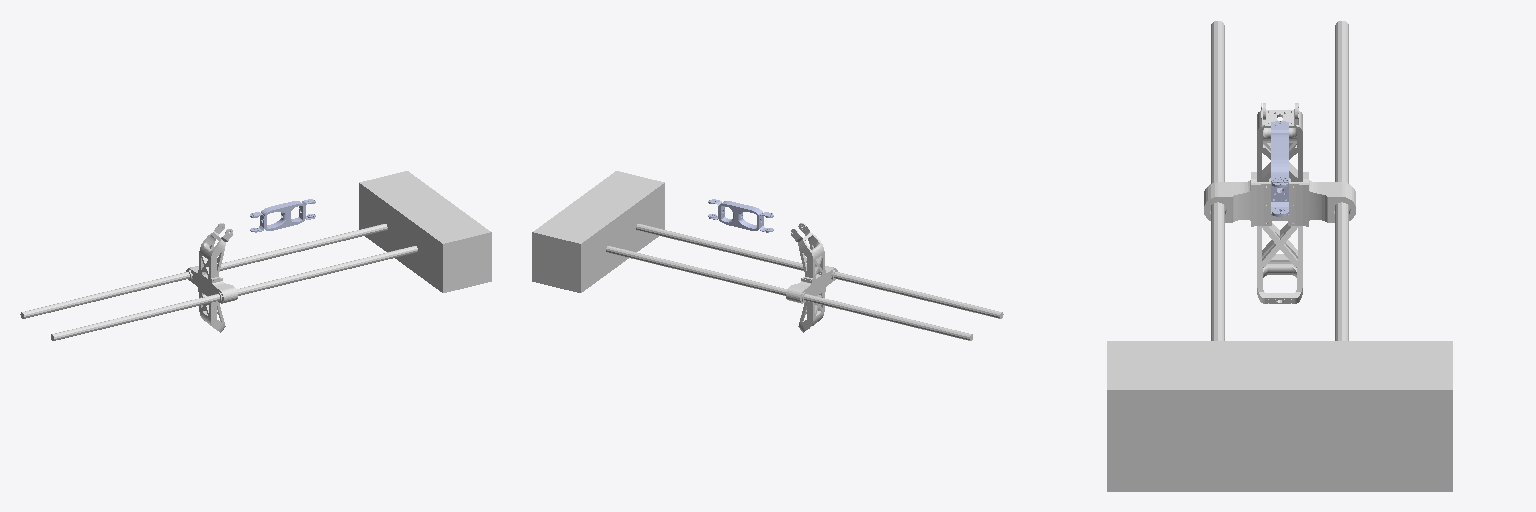
robot.urdf — Pata_Robo_Parcial_URDF_V1.2:
<?xml version="1.0" encoding="utf-8"?>
<!-- This URDF was automatically created by SolidWorks to URDF Exporter! Originally created by Stephen Brawner (brawner@gmail.com) 
     Commit Version: 1.6.0-4-g7f85cfe  Build Version: 1.6.7995.38578
     For more information, please see http://wiki.ros.org/sw_urdf_exporter -->
<robot
  name="Pata_Robo_Parcial_URDF_V1.2">
  <link
    name="Base_link">
    <inertial>
      <origin
        xyz="0.81995 3.347E-07 9.745E-05"
        rpy="0 0 0" />
      <mass
        value="26.056" />
      <inertia
        ixx="0.7959"
        ixy="1.6789E-14"
        ixz="-1.9851E-07"
        iyy="1.47"
        iyz="1.3268E-08"
        izz="2.1151" />
    </inertial>
    <visual>
      <origin
        xyz="0 0 0"
        rpy="0 0 0" />
      <geometry>
        <mesh
          filename="package://Pata_Robo_Parcial_URDF_V1.2/meshes/Base_link.STL" />
      </geometry>
      <material
        name="">
        <color
          rgba="0.89412 0.89412 0.89412 1" />
      </material>
    </visual>
    <collision>
      <origin
        xyz="0 0 0"
        rpy="0 0 0" />
      <geometry>
        <mesh
          filename="package://Pata_Robo_Parcial_URDF_V1.2/meshes/Base_link.STL" />
      </geometry>
    </collision>
  </link>
  <link
    name="Hip_Link">
    <inertial>
      <origin
        xyz="0.059729 0.0001899 -0.00021766"
        rpy="0 0 0" />
      <mass
        value="0.19411" />
      <inertia
        ixx="5.2459E-05"
        ixy="-1.017E-07"
        ixz="-1.017E-07"
        iyy="8.9433E-05"
        iyz="-6.4685E-10"
        izz="8.9433E-05" />
    </inertial>
    <visual>
      <origin
        xyz="0 0 0"
        rpy="0 0 0" />
      <geometry>
        <mesh
          filename="package://Pata_Robo_Parcial_URDF_V1.2/meshes/Hip_Link.STL" />
      </geometry>
      <material
        name="">
        <color
          rgba="0.89412 0.89412 0.89412 1" />
      </material>
    </visual>
    <collision>
      <origin
        xyz="0 0 0"
        rpy="0 0 0" />
      <geometry>
        <mesh
          filename="package://Pata_Robo_Parcial_URDF_V1.2/meshes/Hip_Link.STL" />
      </geometry>
    </collision>
  </link>
  <joint
    name="Hip_Joint"
    type="revolute">
    <origin
      xyz="0.083749 0 0.2004"
      rpy="1.5708 0 0" />
    <parent
      link="Base_link" />
    <child
      link="Hip_Link" />
    <axis
      xyz="0 0 1" />
    <limit
      lower="-1.5708"
      upper="1.5708"
      effort="100"
      velocity="100" />
  </joint>
  <link
    name="Knee_Link">
    <inertial>
      <origin
        xyz="0.12138 0.00022499 0.00023022"
        rpy="0 0 0" />
      <mass
        value="0.21755" />
      <inertia
        ixx="0.00017367"
        ixy="7.9209E-10"
        ixz="-8.4058E-09"
        iyy="0.00053617"
        iyz="-3.2733E-09"
        izz="0.00039504" />
    </inertial>
    <visual>
      <origin
        xyz="0 0 0"
        rpy="0 0 0" />
      <geometry>
        <mesh
          filename="package://Pata_Robo_Parcial_URDF_V1.2/meshes/Knee_Link.STL" />
      </geometry>
      <material
        name="">
        <color
          rgba="0.79216 0.81961 0.92941 1" />
      </material>
    </visual>
    <collision>
      <origin
        xyz="0 0 0"
        rpy="0 0 0" />
      <geometry>
        <mesh
          filename="package://Pata_Robo_Parcial_URDF_V1.2/meshes/Knee_Link.STL" />
      </geometry>
    </collision>
  </link>
  <joint
    name="Knee_Joint"
    type="revolute">
    <origin
      xyz="0.11945 0 0"
      rpy="-1.5708 0 0" />
    <parent
      link="Hip_Link" />
    <child
      link="Knee_Link" />
    <axis
      xyz="0 0 1" />
    <limit
      lower="-1.5708"
      upper="1.5708"
      effort="100"
      velocity="100" />
  </joint>
  <link
    name="Ankle_Link">
    <inertial>
      <origin
        xyz="0.14628 -0.012034 -0.00027145"
        rpy="0 0 0" />
      <mass
        value="0.38215" />
      <inertia
        ixx="0.00046168"
        ixy="3.9328E-05"
        ixz="-1.1677E-07"
        iyy="0.00052581"
        iyz="1.7837E-08"
        izz="0.00059799" />
    </inertial>
    <visual>
      <origin
        xyz="0 0 0"
        rpy="0 0 0" />
      <geometry>
        <mesh
          filename="package://Pata_Robo_Parcial_URDF_V1.2/meshes/Ankle_Link.STL" />
      </geometry>
      <material
        name="">
        <color
          rgba="0.89412 0.89412 0.89412 1" />
      </material>
    </visual>
    <collision>
      <origin
        xyz="0 0 0"
        rpy="0 0 0" />
      <geometry>
        <mesh
          filename="package://Pata_Robo_Parcial_URDF_V1.2/meshes/Ankle_Link.STL" />
      </geometry>
    </collision>
  </link>
  <joint
    name="Ankle_Joint"
    type="revolute">
    <origin
      xyz="0.23605 0 0"
      rpy="3.1416 0 0" />
    <parent
      link="Knee_Link" />
    <child
      link="Ankle_Link" />
    <axis
      xyz="0 0 -1" />
    <limit
      lower="-1.5708"
      upper="1.5708"
      effort="100"
      velocity="100" />
  </joint>
</robot>

--- What the picture shows (computed from the rendered views, not written in the file) ---
3 views of the same robot in one strip: view 1: azimuth 30°, elevation 25°; view 2: azimuth 150°, elevation 25°; view 3: azimuth 270°, elevation 25° (orthographic).
Model Pata_Robo_Parcial_URDF_V1.2 with 4 links and 3 joints (3 revolute), rooted at Base_link, posed every joint at zero.
Visible links, largest first — view 1: Base_link, Knee_Link; view 2: Base_link, Knee_Link; view 3: Base_link, Knee_Link.
Link boxes in pixels (x1=…): Base_link: x1=20, y1=171, x2=491, y2=340; Knee_Link: x1=250, y1=199, x2=315, y2=232; Base_link: x1=532, y1=171, x2=1003, y2=340; Knee_Link: x1=708, y1=199, x2=773, y2=232; Base_link: x1=1107, y1=21, x2=1452, y2=491; Knee_Link: x1=1271, y1=121, x2=1288, y2=216.
Size in the robot's own frame: 1.7 by 0.6 by 0.4273 metres.
2 mesh visuals loaded from 4 distinct referenced files (2 binary STL); not drawn: 2 (reference not matched to a file when rendering).
